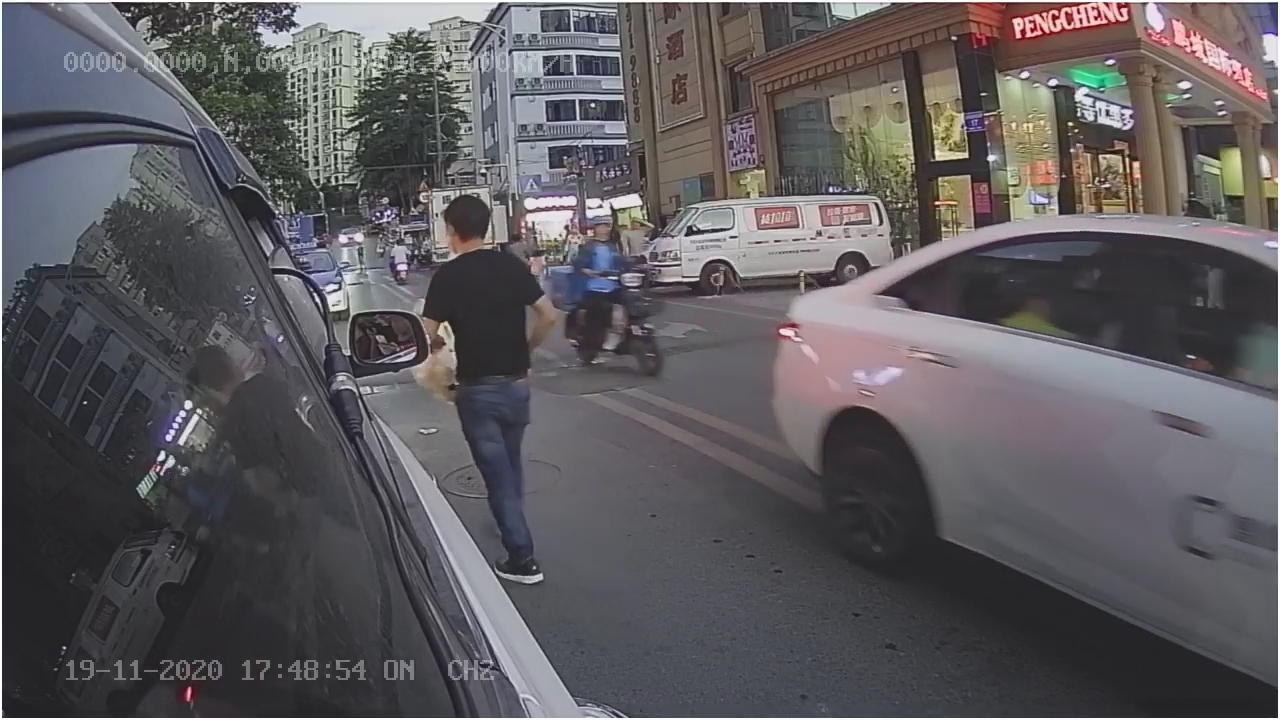person: (426, 192, 561, 477)
